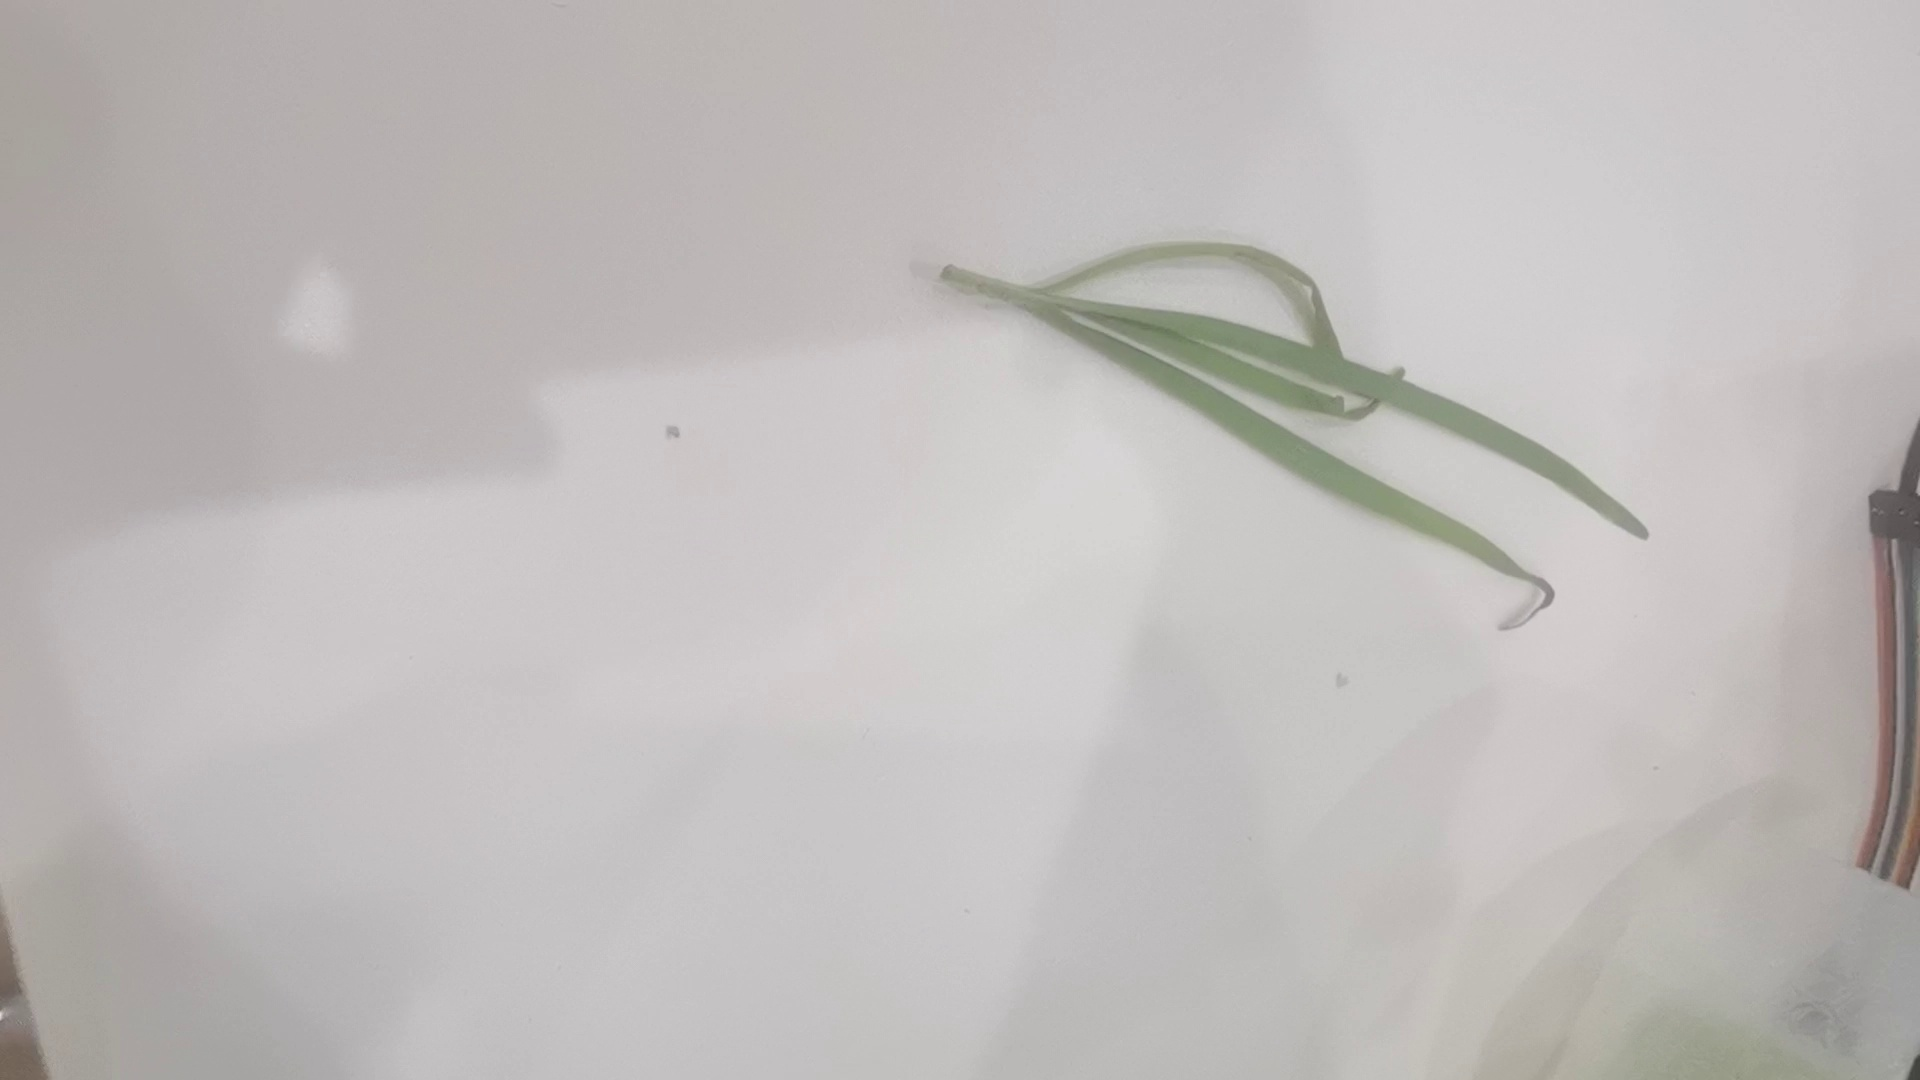chives: (931, 240, 1660, 622)
